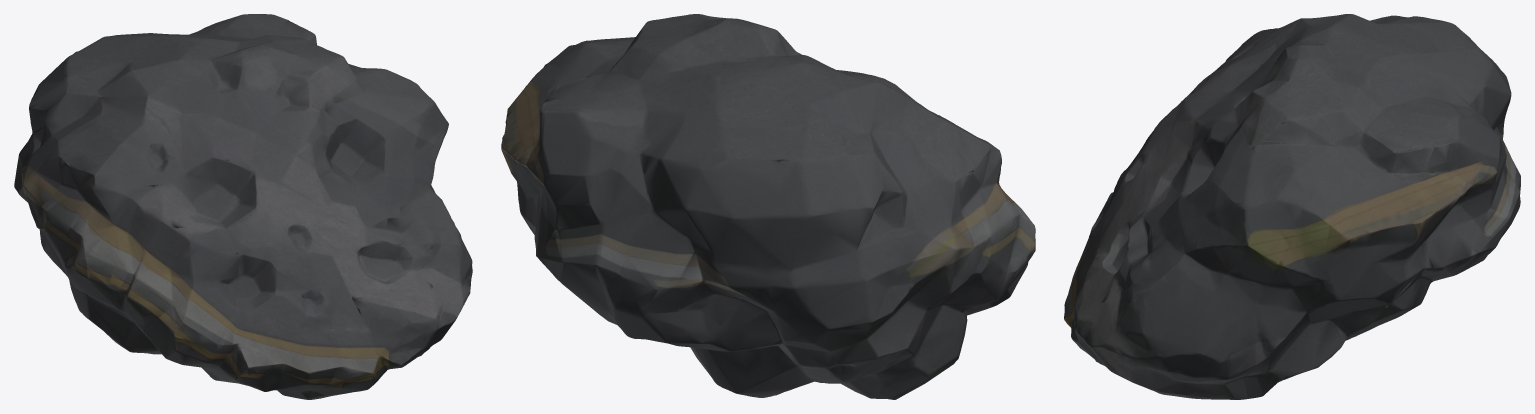
The model's file is 01_backdrop_giant.fbx.
3 renders of one model, left to right at view 1: azimuth 30°, elevation 25°; view 2: azimuth 150°, elevation 25°; view 3: azimuth 270°, elevation 25°, orthographic. The views are drawn at different scales.
Visible parts, largest first — view 1: 01_backdrop_giant; view 2: 01_backdrop_giant; view 3: 01_backdrop_giant.
Part boxes in pixels (box(x1,y1,x2,y2)): 01_backdrop_giant: box(14, 14, 472, 399); 01_backdrop_giant: box(501, 14, 1035, 399); 01_backdrop_giant: box(1064, 14, 1520, 399).
Size of the model in its own units: 200 by 148 by 194.
Materials: 1 (1 with a texture image).
